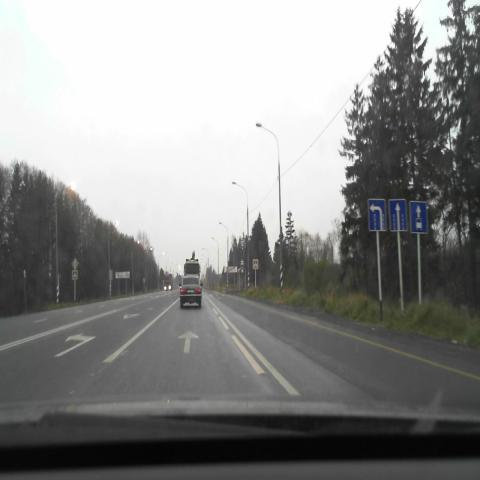5_14: (409, 201, 428, 233)
